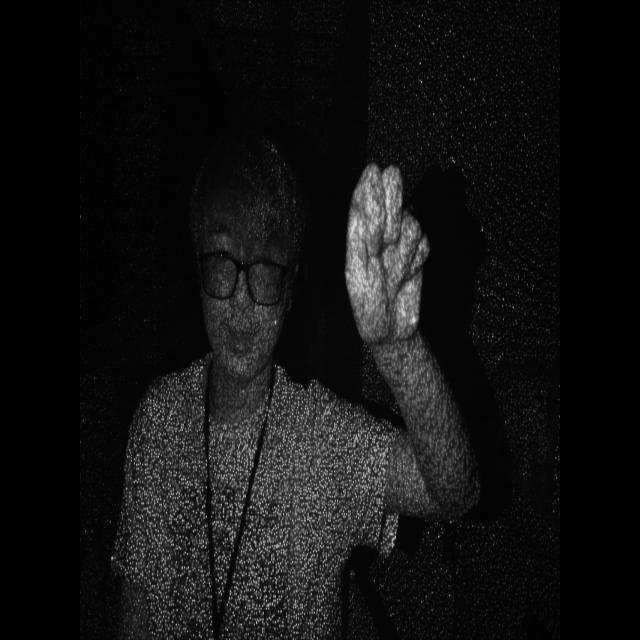N: (335, 136, 438, 377)
